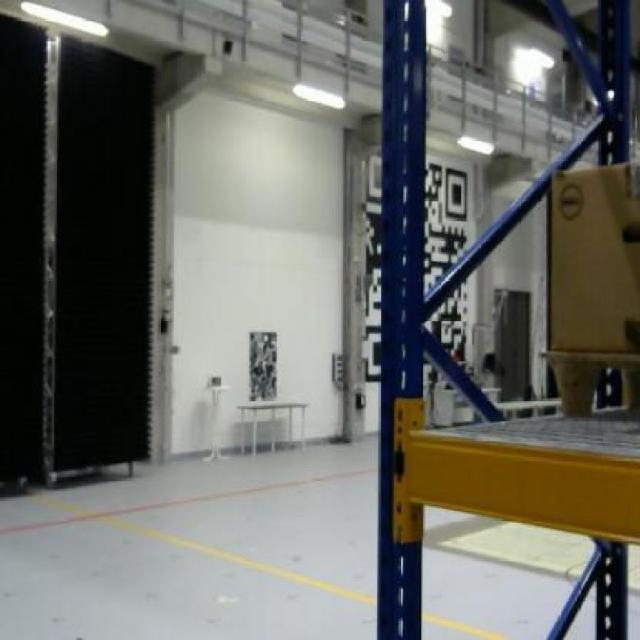box: (548, 160, 640, 351)
